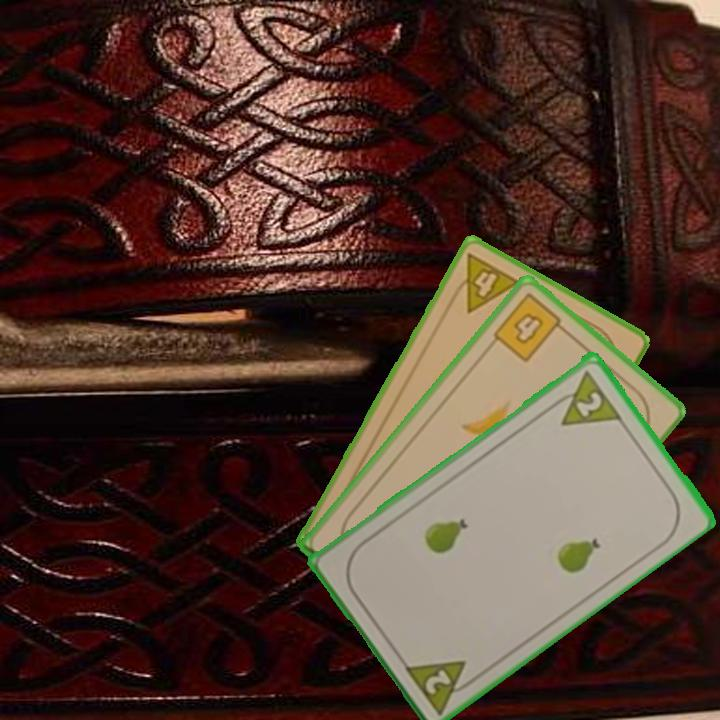2p: (545, 365, 624, 429), (400, 655, 482, 716)
4b: (489, 289, 571, 365)
4p: (445, 249, 524, 316)
